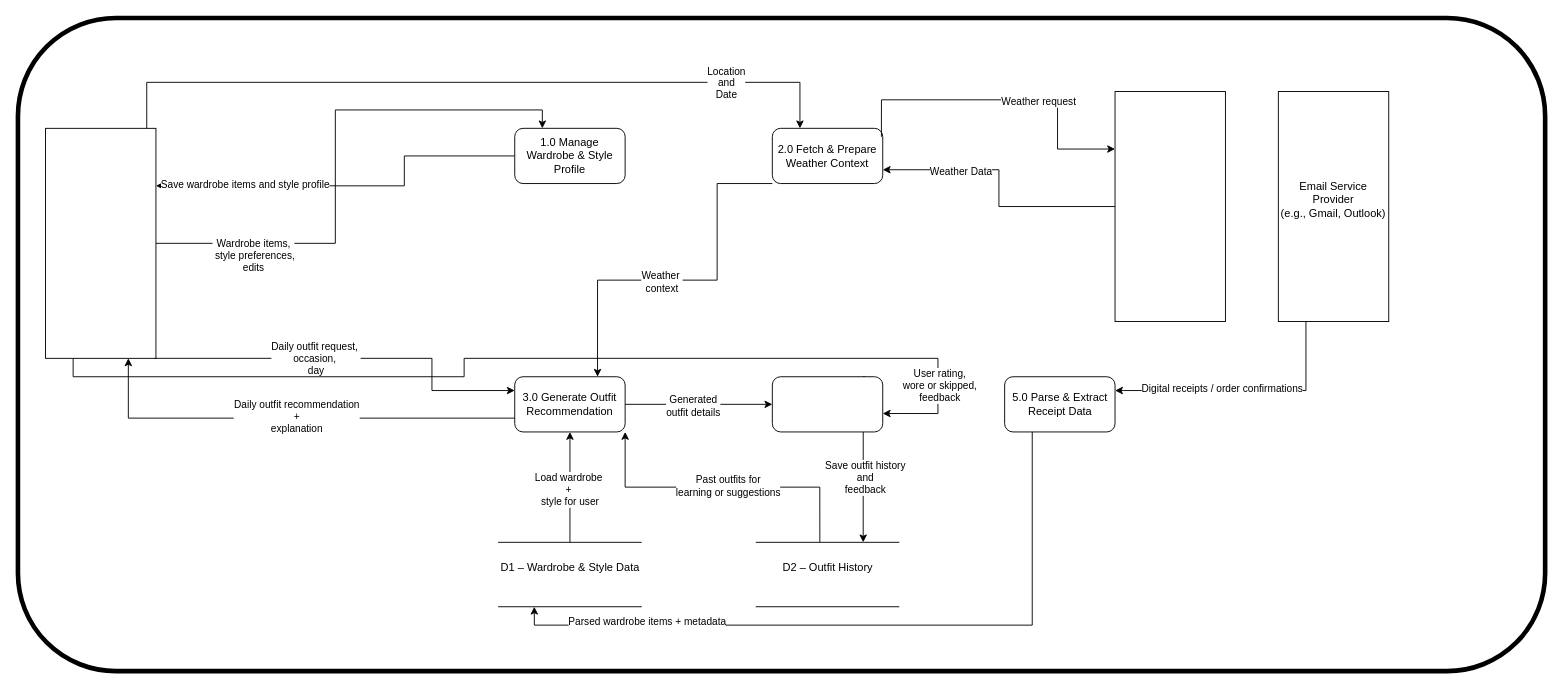
This 1563x689 diagram has some shape labels left out. The centre of each missing label's shape, as x and y in pixels:
4.0 Record Feedback & Outfit History: [827,404]
User: [100,242]
Weather Service API: [1169,206]
